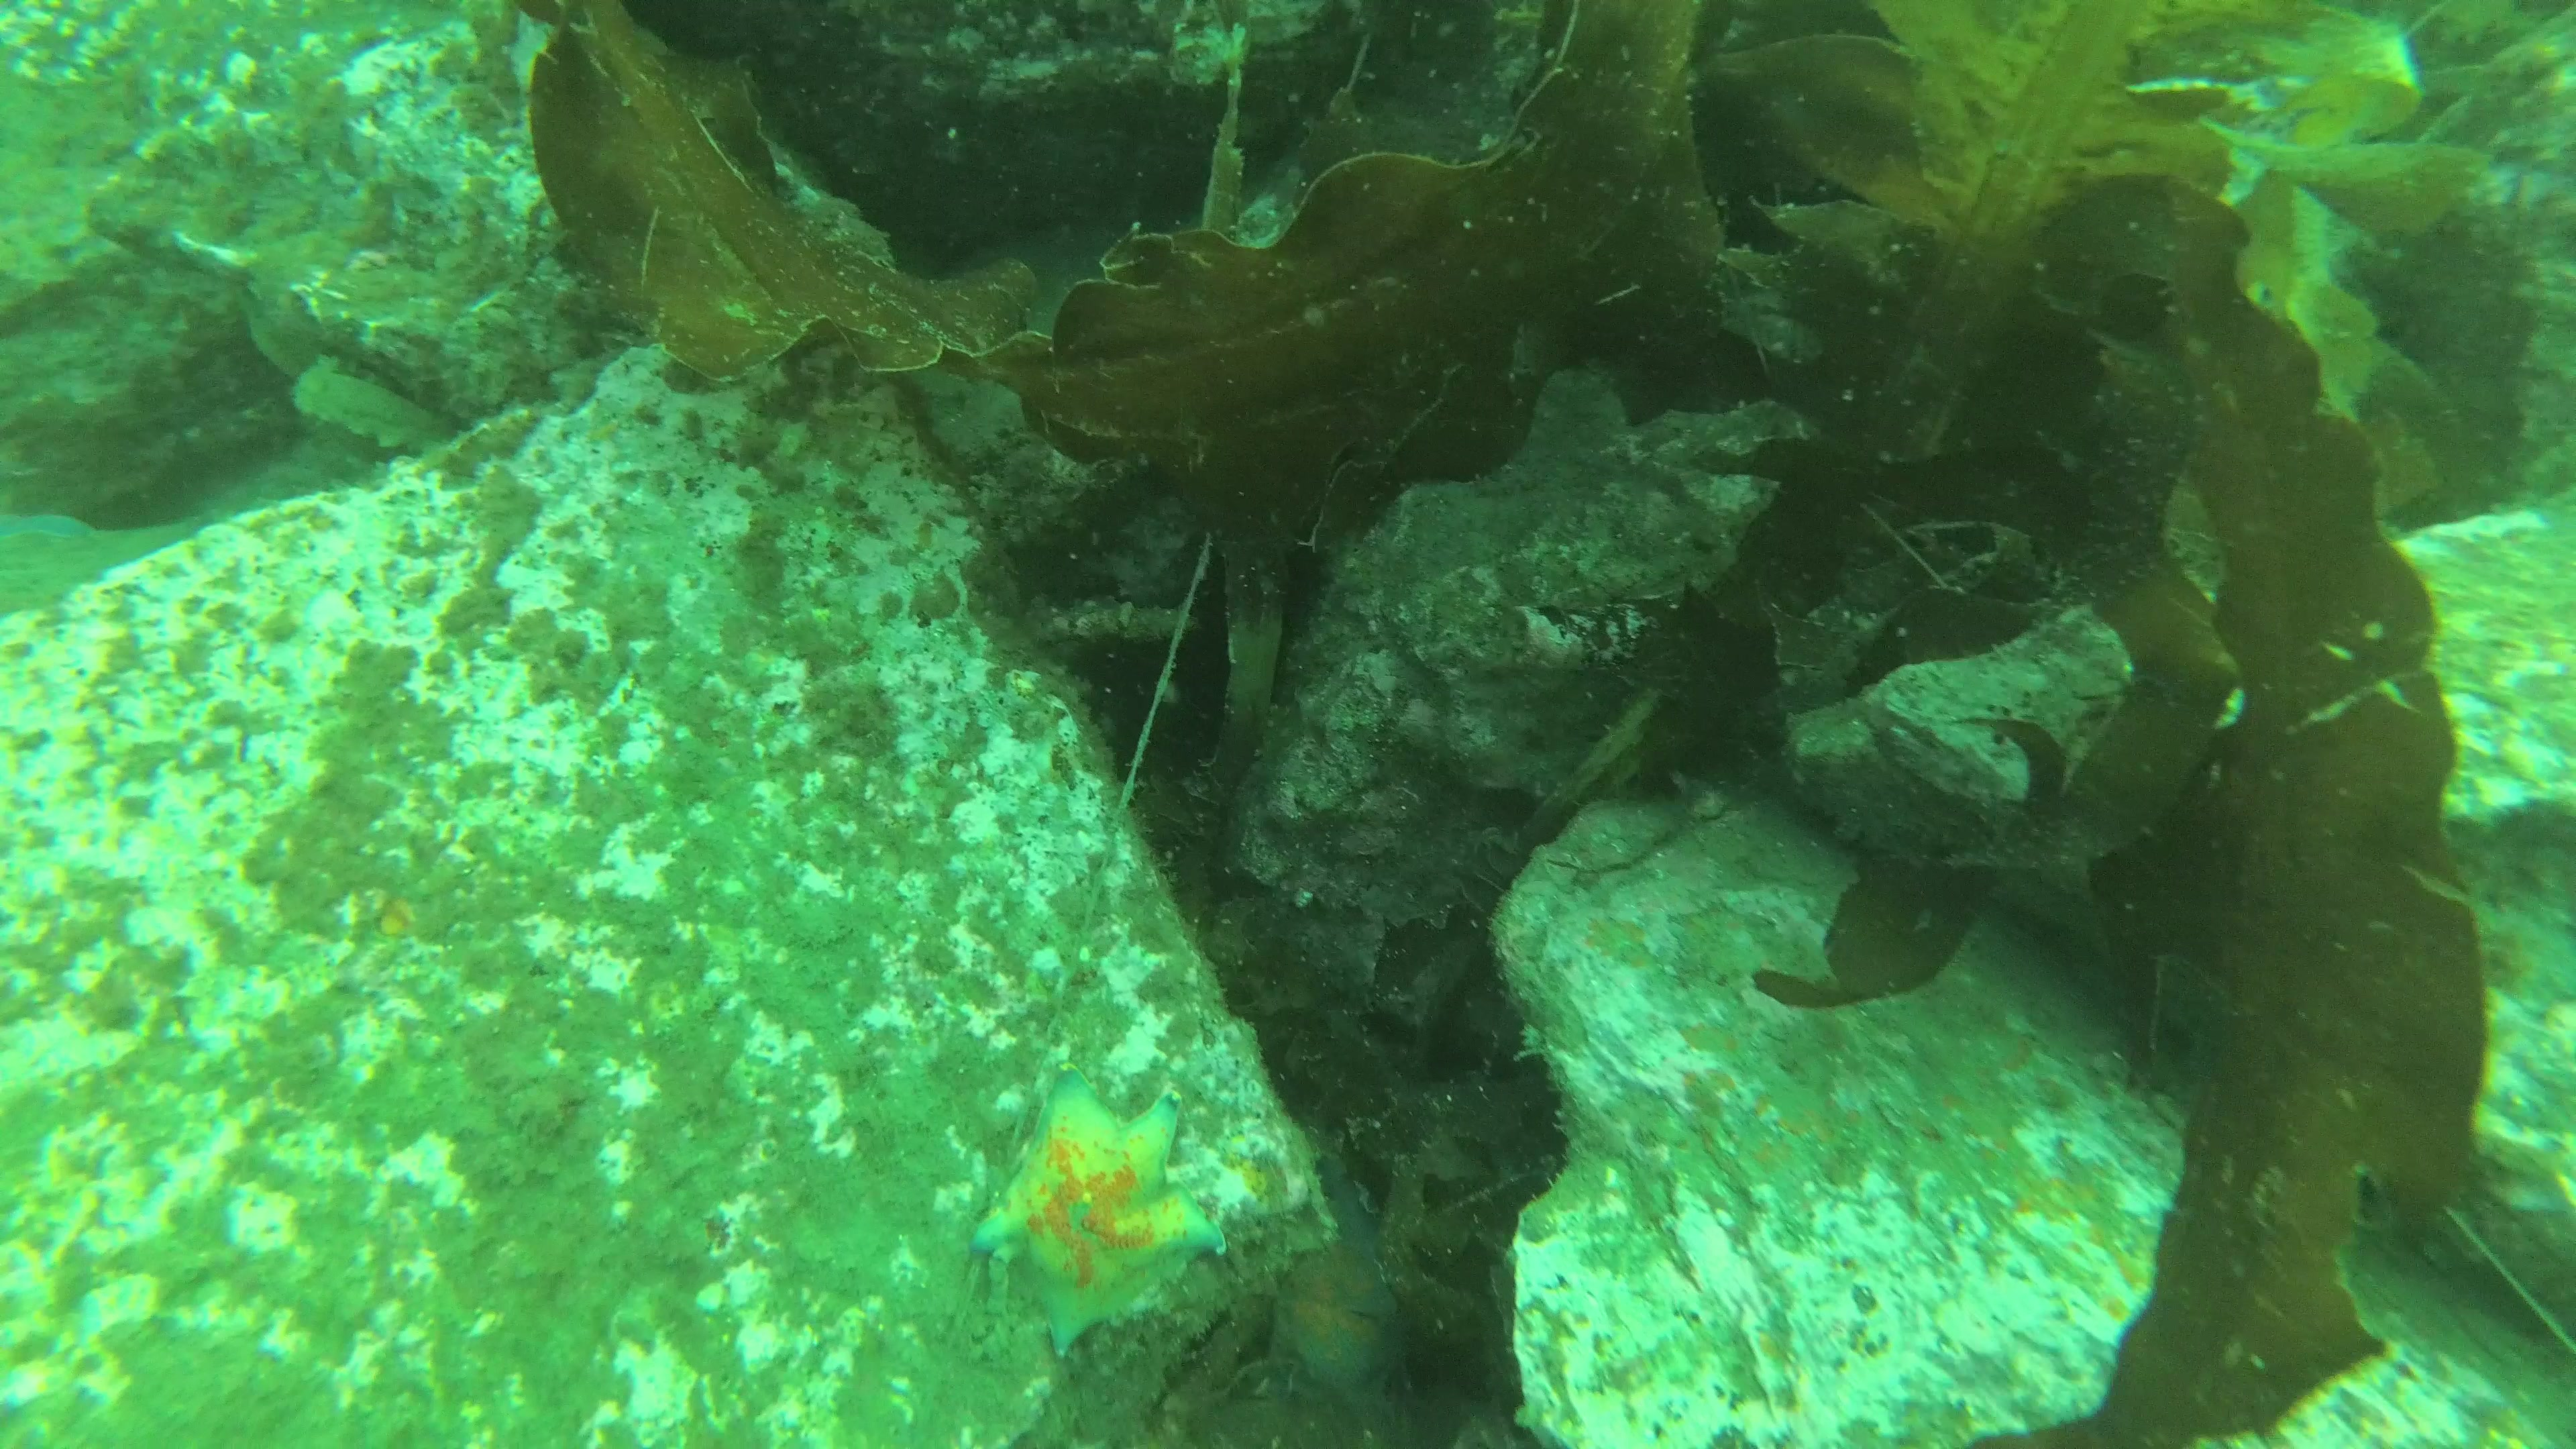starfish: (973, 1058, 1224, 1361), (1277, 1152, 1401, 1414)
